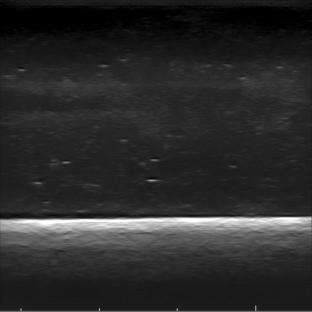vessel: (0, 77, 109, 125)
